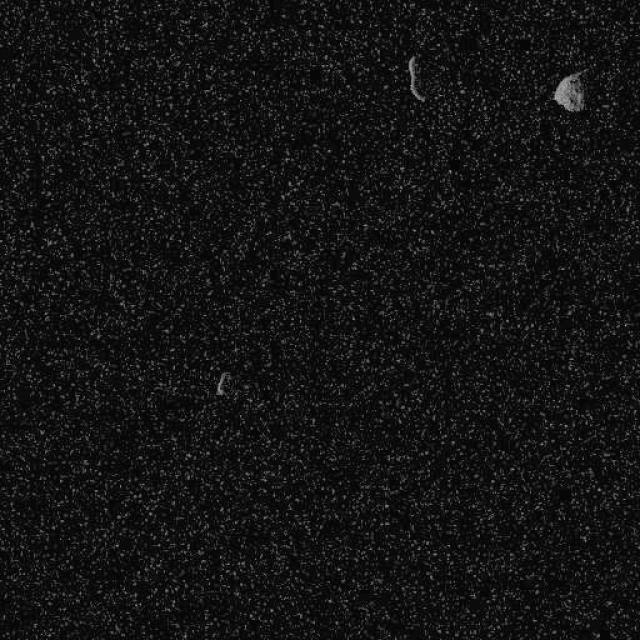D2: (552, 68, 586, 112), (406, 54, 426, 102), (214, 370, 231, 398)
